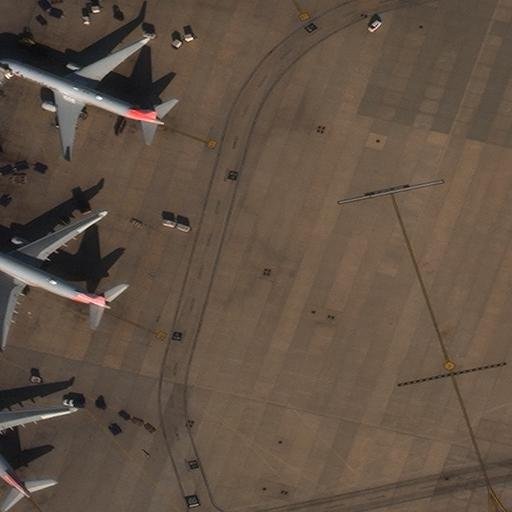Large Civil Transport: (0, 38, 165, 158), (0, 211, 110, 347), (0, 393, 70, 496)
